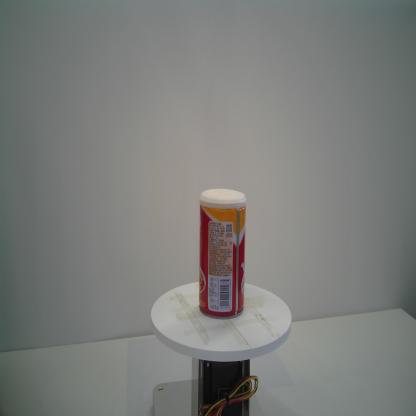Canned Food: (199, 187, 247, 320)
